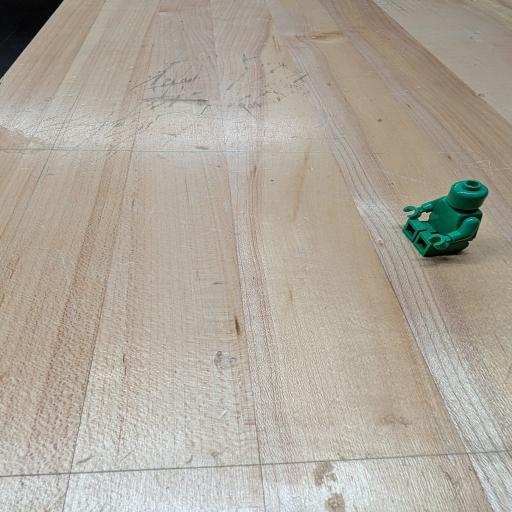Minifig: (403, 180, 488, 257)
